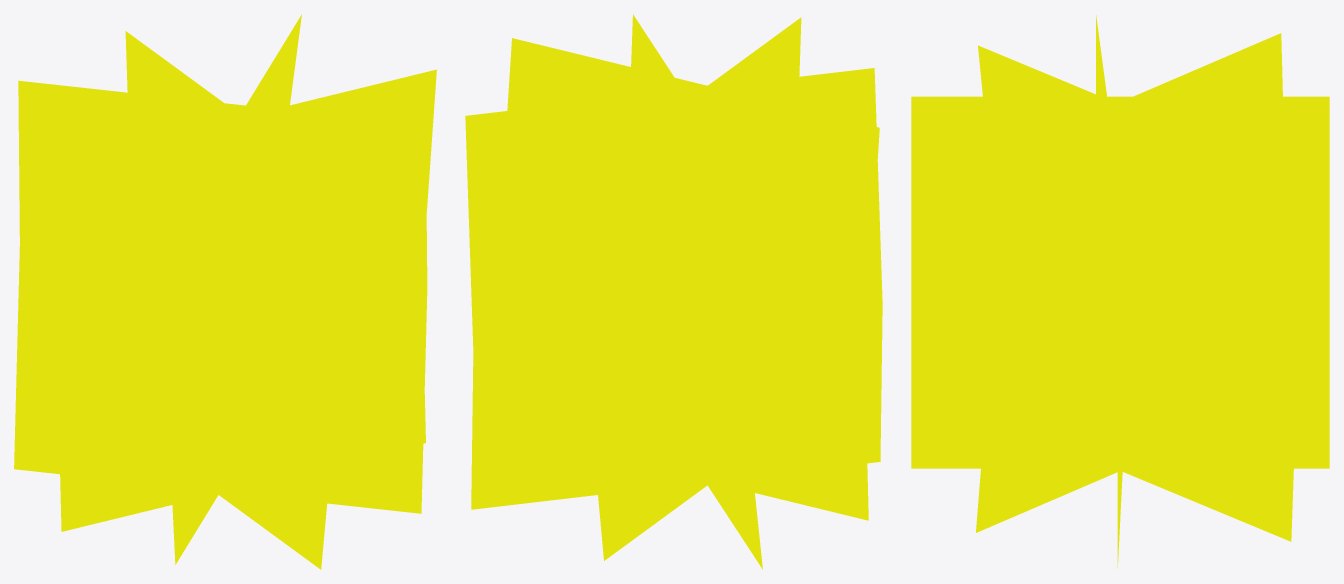
The model's file is Foliage_Trees_Tree_2_Tree2_Low.glb.
3 renders of one model, left to right at view 1: azimuth 30°, elevation 25°; view 2: azimuth 150°, elevation 25°; view 3: azimuth 270°, elevation 25°, orthographic.
Parts seen in each view (by area): view 1: MidBoardSideBirch1.003; view 2: MidBoardSideBirch1.003; view 3: MidBoardSideBirch1.003.
Boxes of the visible parts, bbox=[...] form: MidBoardSideBirch1.003: bbox=[14, 14, 436, 569]; MidBoardSideBirch1.003: bbox=[465, 14, 882, 569]; MidBoardSideBirch1.003: bbox=[911, 15, 1329, 568].
Bounding box in the file's own units: 8.08 × 8.08 × 8.08.
1 material, 1 textured.
